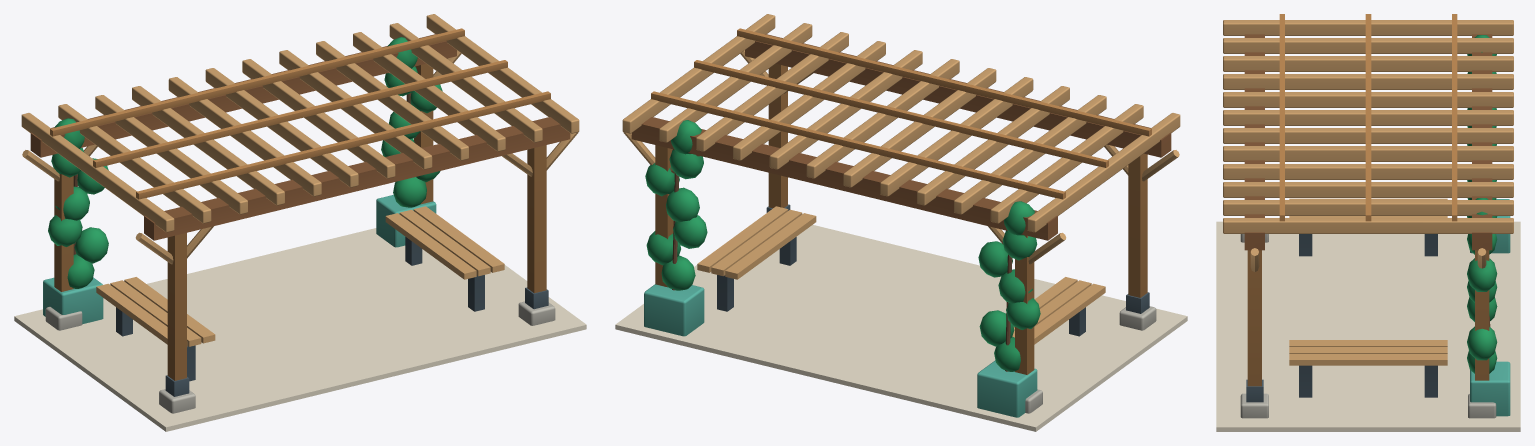
Rendered from pergola.glb.
3 views of the same model, side by side, from view 1: azimuth 30°, elevation 25°; view 2: azimuth 150°, elevation 25°; view 3: azimuth 270°, elevation 25° (orthographic).
Parts seen in each view (by area): view 1: pergola paving, knee brace, pergola column, double main beam, climbing foliage, vine planter, post steel shoe, post stone footing; view 2: pergola paving, knee brace, pergola column, double main beam, climbing foliage, vine planter, post steel shoe, post stone footing; view 3: knee brace, pergola paving, pergola column, climbing foliage, double main beam, vine planter, post steel shoe, post stone footing.
Part boxes in pixels (x1,y1,x2,y2): pergola paving: [14, 228, 586, 431]; knee brace: [21, 14, 579, 346]; pergola column: [50, 28, 550, 380]; double main beam: [30, 34, 570, 240]; climbing foliage: [48, 37, 442, 288]; vine planter: [43, 195, 436, 324]; post steel shoe: [116, 237, 548, 396]; post stone footing: [45, 301, 555, 413]; pergola paving: [615, 225, 1187, 431]; knee brace: [622, 14, 1180, 344]; pergola column: [651, 28, 1151, 374]; double main beam: [631, 34, 1171, 240]; climbing foliage: [645, 120, 1040, 371]; vine planter: [644, 284, 1037, 417]; post steel shoe: [717, 204, 1149, 336]; post stone footing: [1025, 306, 1156, 413]; knee brace: [1223, 20, 1513, 365]; pergola paving: [1216, 221, 1520, 431]; pergola column: [1247, 14, 1489, 386]; climbing foliage: [1467, 35, 1497, 373]; double main beam: [1244, 34, 1492, 250]; vine planter: [1470, 199, 1510, 416]; post steel shoe: [1246, 234, 1437, 402]; post stone footing: [1240, 234, 1496, 418].
Size of the model in its own units: 5.04 by 2.33 by 3.
